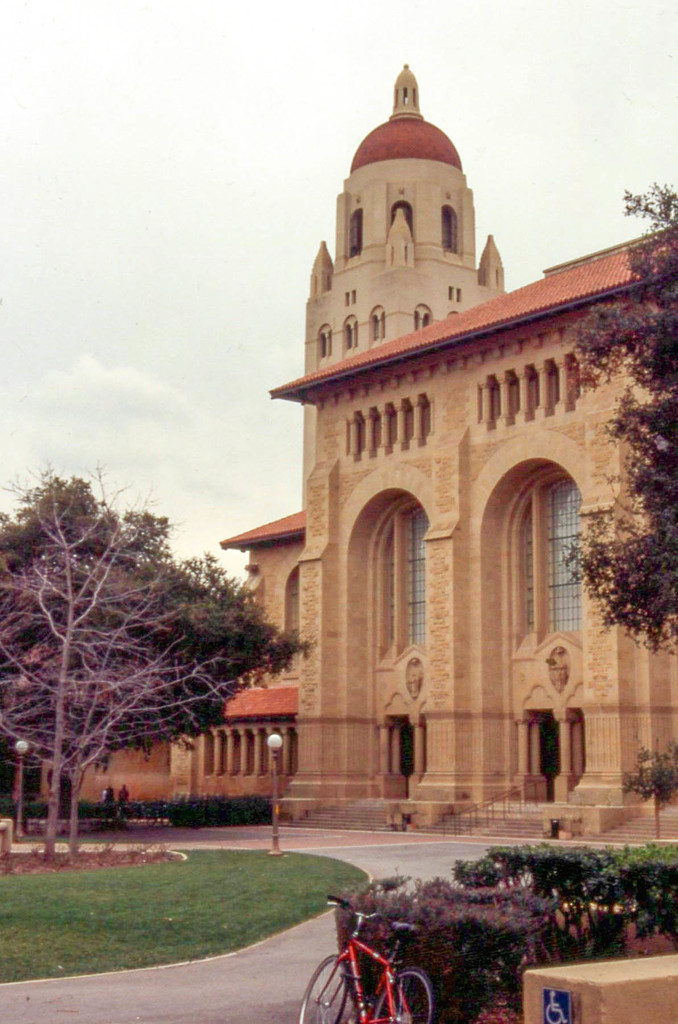bicycle: (316, 905, 434, 1023)
